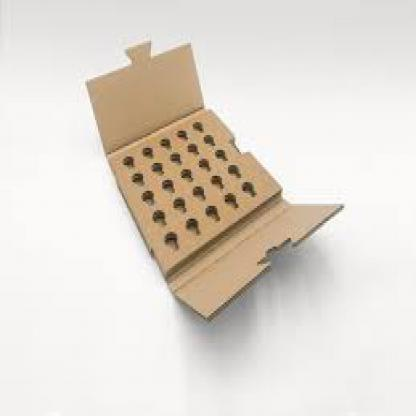CARDBOARD: (87, 36, 342, 318)
